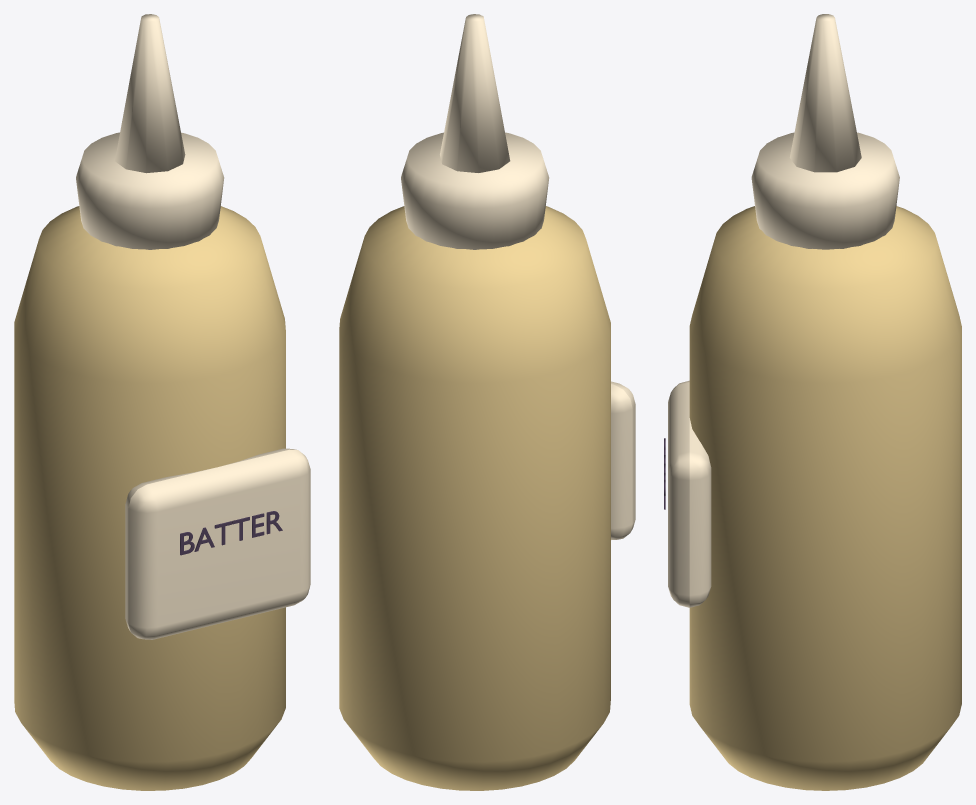
The model's file is Batter_bottle.fbx.
3 renders of one model, left to right at view 1: azimuth 30°, elevation 25°; view 2: azimuth 150°, elevation 25°; view 3: azimuth 270°, elevation 25°, orthographic.
Parts seen in each view (by area): view 1: Toon_Batter_bottle Working bottle.001, Toon_Batter_bottle Bottle label.001, Toon_Batter_bottle Cap.001, Toon_Batter_bottle Pour nozzle.001, Bottle name.007; view 2: Toon_Batter_bottle Working bottle.001, Toon_Batter_bottle Cap.001, Toon_Batter_bottle Pour nozzle.001, Toon_Batter_bottle Bottle label.001; view 3: Toon_Batter_bottle Working bottle.001, Toon_Batter_bottle Cap.001, Toon_Batter_bottle Bottle label.001, Toon_Batter_bottle Pour nozzle.001.
Boxes of the visible parts, <box> form: Toon_Batter_bottle Working bottle.001: <box>14,206,285,790</box>; Toon_Batter_bottle Bottle label.001: <box>125,448,310,639</box>; Toon_Batter_bottle Cap.001: <box>76,132,224,249</box>; Toon_Batter_bottle Pour nozzle.001: <box>115,14,185,173</box>; Bottle name.007: <box>180,511,282,555</box>; Toon_Batter_bottle Working bottle.001: <box>339,206,610,790</box>; Toon_Batter_bottle Cap.001: <box>401,132,549,249</box>; Toon_Batter_bottle Pour nozzle.001: <box>440,14,510,172</box>; Toon_Batter_bottle Bottle label.001: <box>611,381,635,539</box>; Toon_Batter_bottle Working bottle.001: <box>689,206,961,790</box>; Toon_Batter_bottle Cap.001: <box>751,132,899,249</box>; Toon_Batter_bottle Bottle label.001: <box>668,380,711,607</box>; Toon_Batter_bottle Pour nozzle.001: <box>789,14,861,172</box>.
Bounding box in the file's own units: 8.8 × 26 × 9.62.
